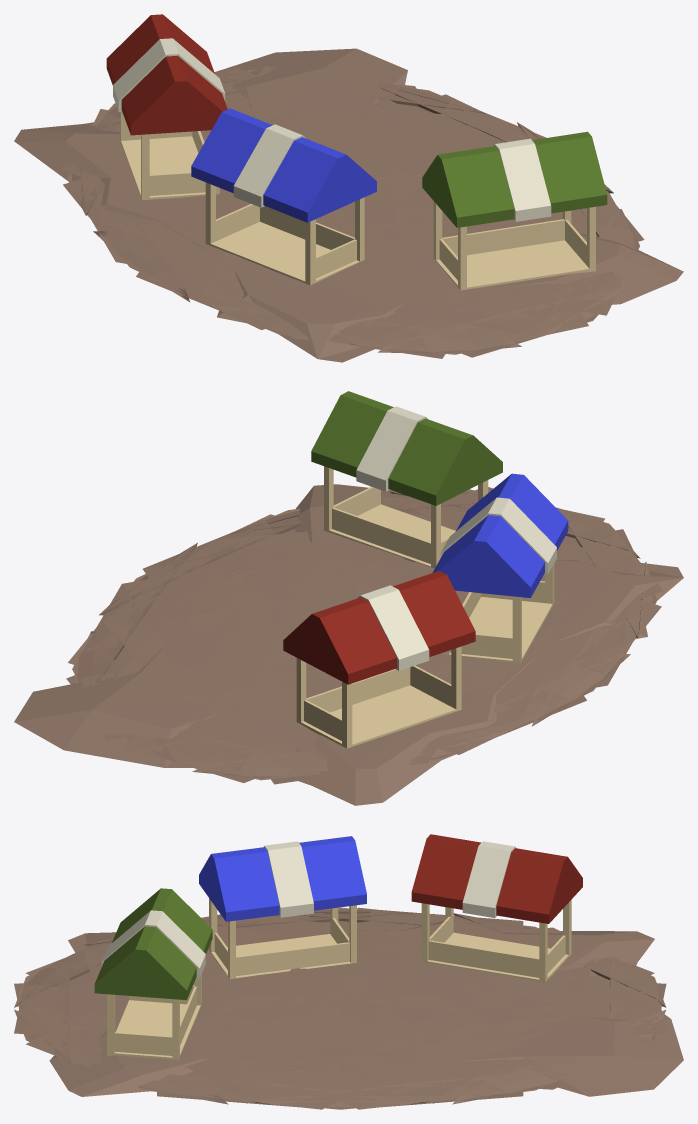
Rendered from ShopArea.fbx.
3 views of the same model, one above another, from view 1: azimuth 30°, elevation 25°; view 2: azimuth 150°, elevation 25°; view 3: azimuth 270°, elevation 25° (orthographic). The views are drawn at different scales.
Visible parts, largest first — view 1: Icosphere, Concrete, Roof.002, Roof.001, WoodBase.002, WoodBase.001, Roof, WoodBase, RoofOverlay.002, RoofOverlay.001, RoofOverlay; view 2: Icosphere, Concrete, Roof, Roof.002, WoodBase, Roof.001, WoodBase.002, WoodBase.001, RoofOverlay, RoofOverlay.002, RoofOverlay.001; view 3: Icosphere, Concrete, Roof, Roof.001, Roof.002, WoodBase, WoodBase.001, WoodBase.002, RoofOverlay.001, RoofOverlay, RoofOverlay.002.
Boxes of the visible parts, x1,y1,x2,y2 form: Icosphere: (61,65,644,358); Concrete: (14,48,683,362); Roof.002: (422,131,607,227); Roof.001: (191,108,376,222); WoodBase.002: (433,201,595,290); WoodBase.001: (205,182,364,285); Roof: (106,14,227,135); WoodBase: (120,111,219,200); RoofOverlay.002: (494,138,551,221); RoofOverlay.001: (233,124,306,207); RoofOverlay: (113,38,225,111); Icosphere: (66,487,663,784); Concrete: (14,484,683,805); Roof: (283,571,475,684); Roof.002: (311,391,502,505); WoodBase: (296,646,461,748); Roof.001: (432,473,568,597); WoodBase.002: (324,466,488,568); WoodBase.001: (442,564,554,663); RoofOverlay: (357,585,429,670); RoofOverlay.002: (356,406,427,491); RoofOverlay.001: (440,497,556,574); Icosphere: (14,907,666,1109); Concrete: (49,920,683,1096); Roof: (411,834,582,923); Roof.001: (199,836,366,921); Roof.002: (94,888,212,1000); WoodBase: (421,900,571,982); WoodBase.001: (209,898,356,979); WoodBase.002: (107,974,201,1059); RoofOverlay.001: (264,841,313,917); RoofOverlay: (462,841,516,917); RoofOverlay.002: (101,910,205,978).
Bounding box in the file's own units: 5646 × 1621 × 7802.
